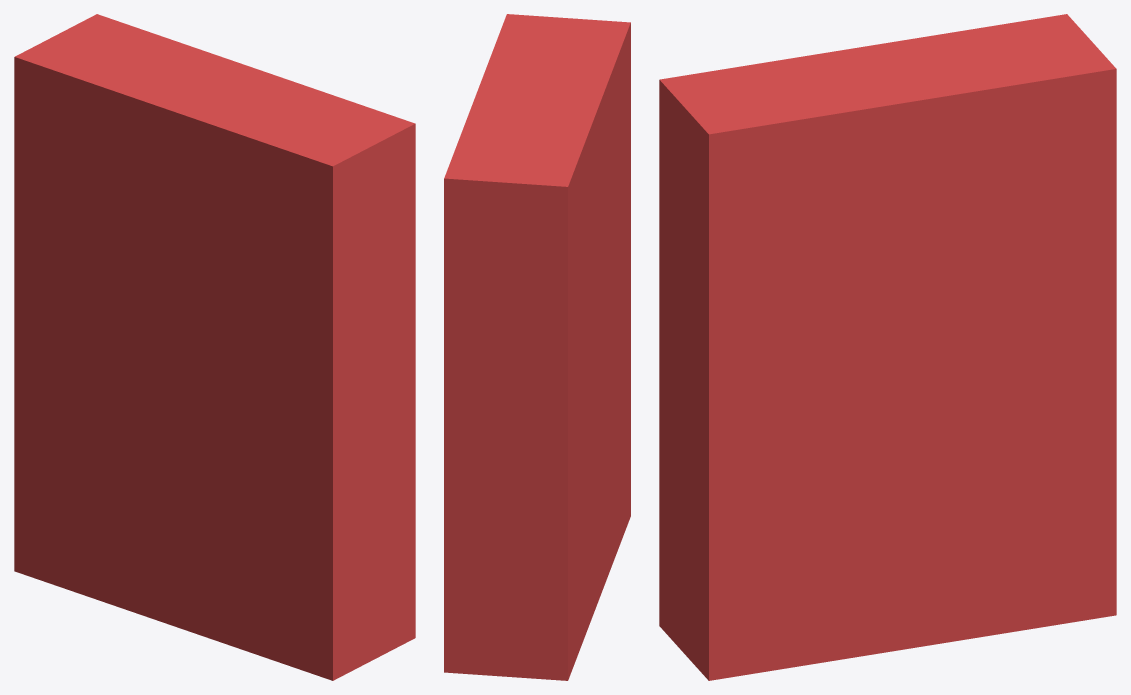
File: red_paddle_kgunn.fbx
3 renders of one model, left to right at view 1: azimuth 30°, elevation 25°; view 2: azimuth 150°, elevation 25°; view 3: azimuth 270°, elevation 25°, orthographic. The views are drawn at different scales.
Visible parts, largest first — view 1: paddle02_GEO_TestTable01_kgunn; view 2: paddle02_GEO_TestTable01_kgunn; view 3: paddle02_GEO_TestTable01_kgunn.
Part boxes in pixels (bbox=[...]): paddle02_GEO_TestTable01_kgunn: bbox=[14, 14, 415, 680]; paddle02_GEO_TestTable01_kgunn: bbox=[444, 14, 630, 680]; paddle02_GEO_TestTable01_kgunn: bbox=[659, 14, 1116, 680].
Size of the model in its own units: 47.26 by 100 by 75.8.
